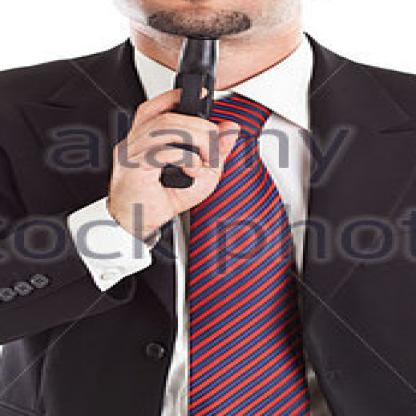gun: (115, 23, 260, 196)
